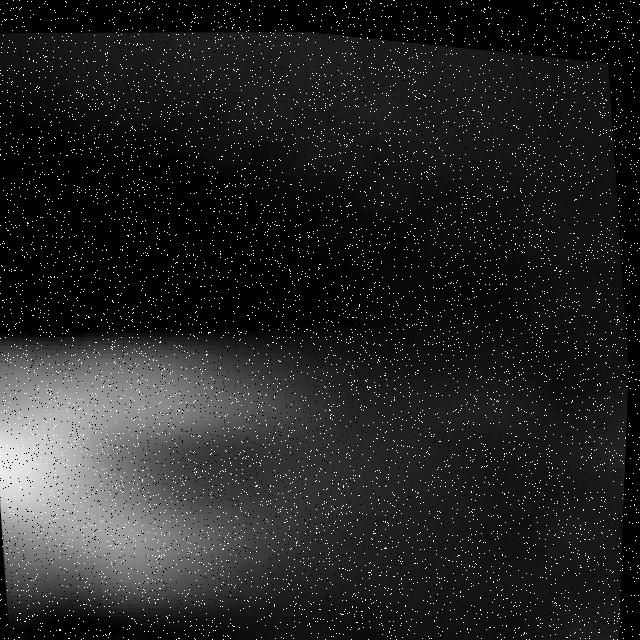person: (1, 305, 301, 640)
